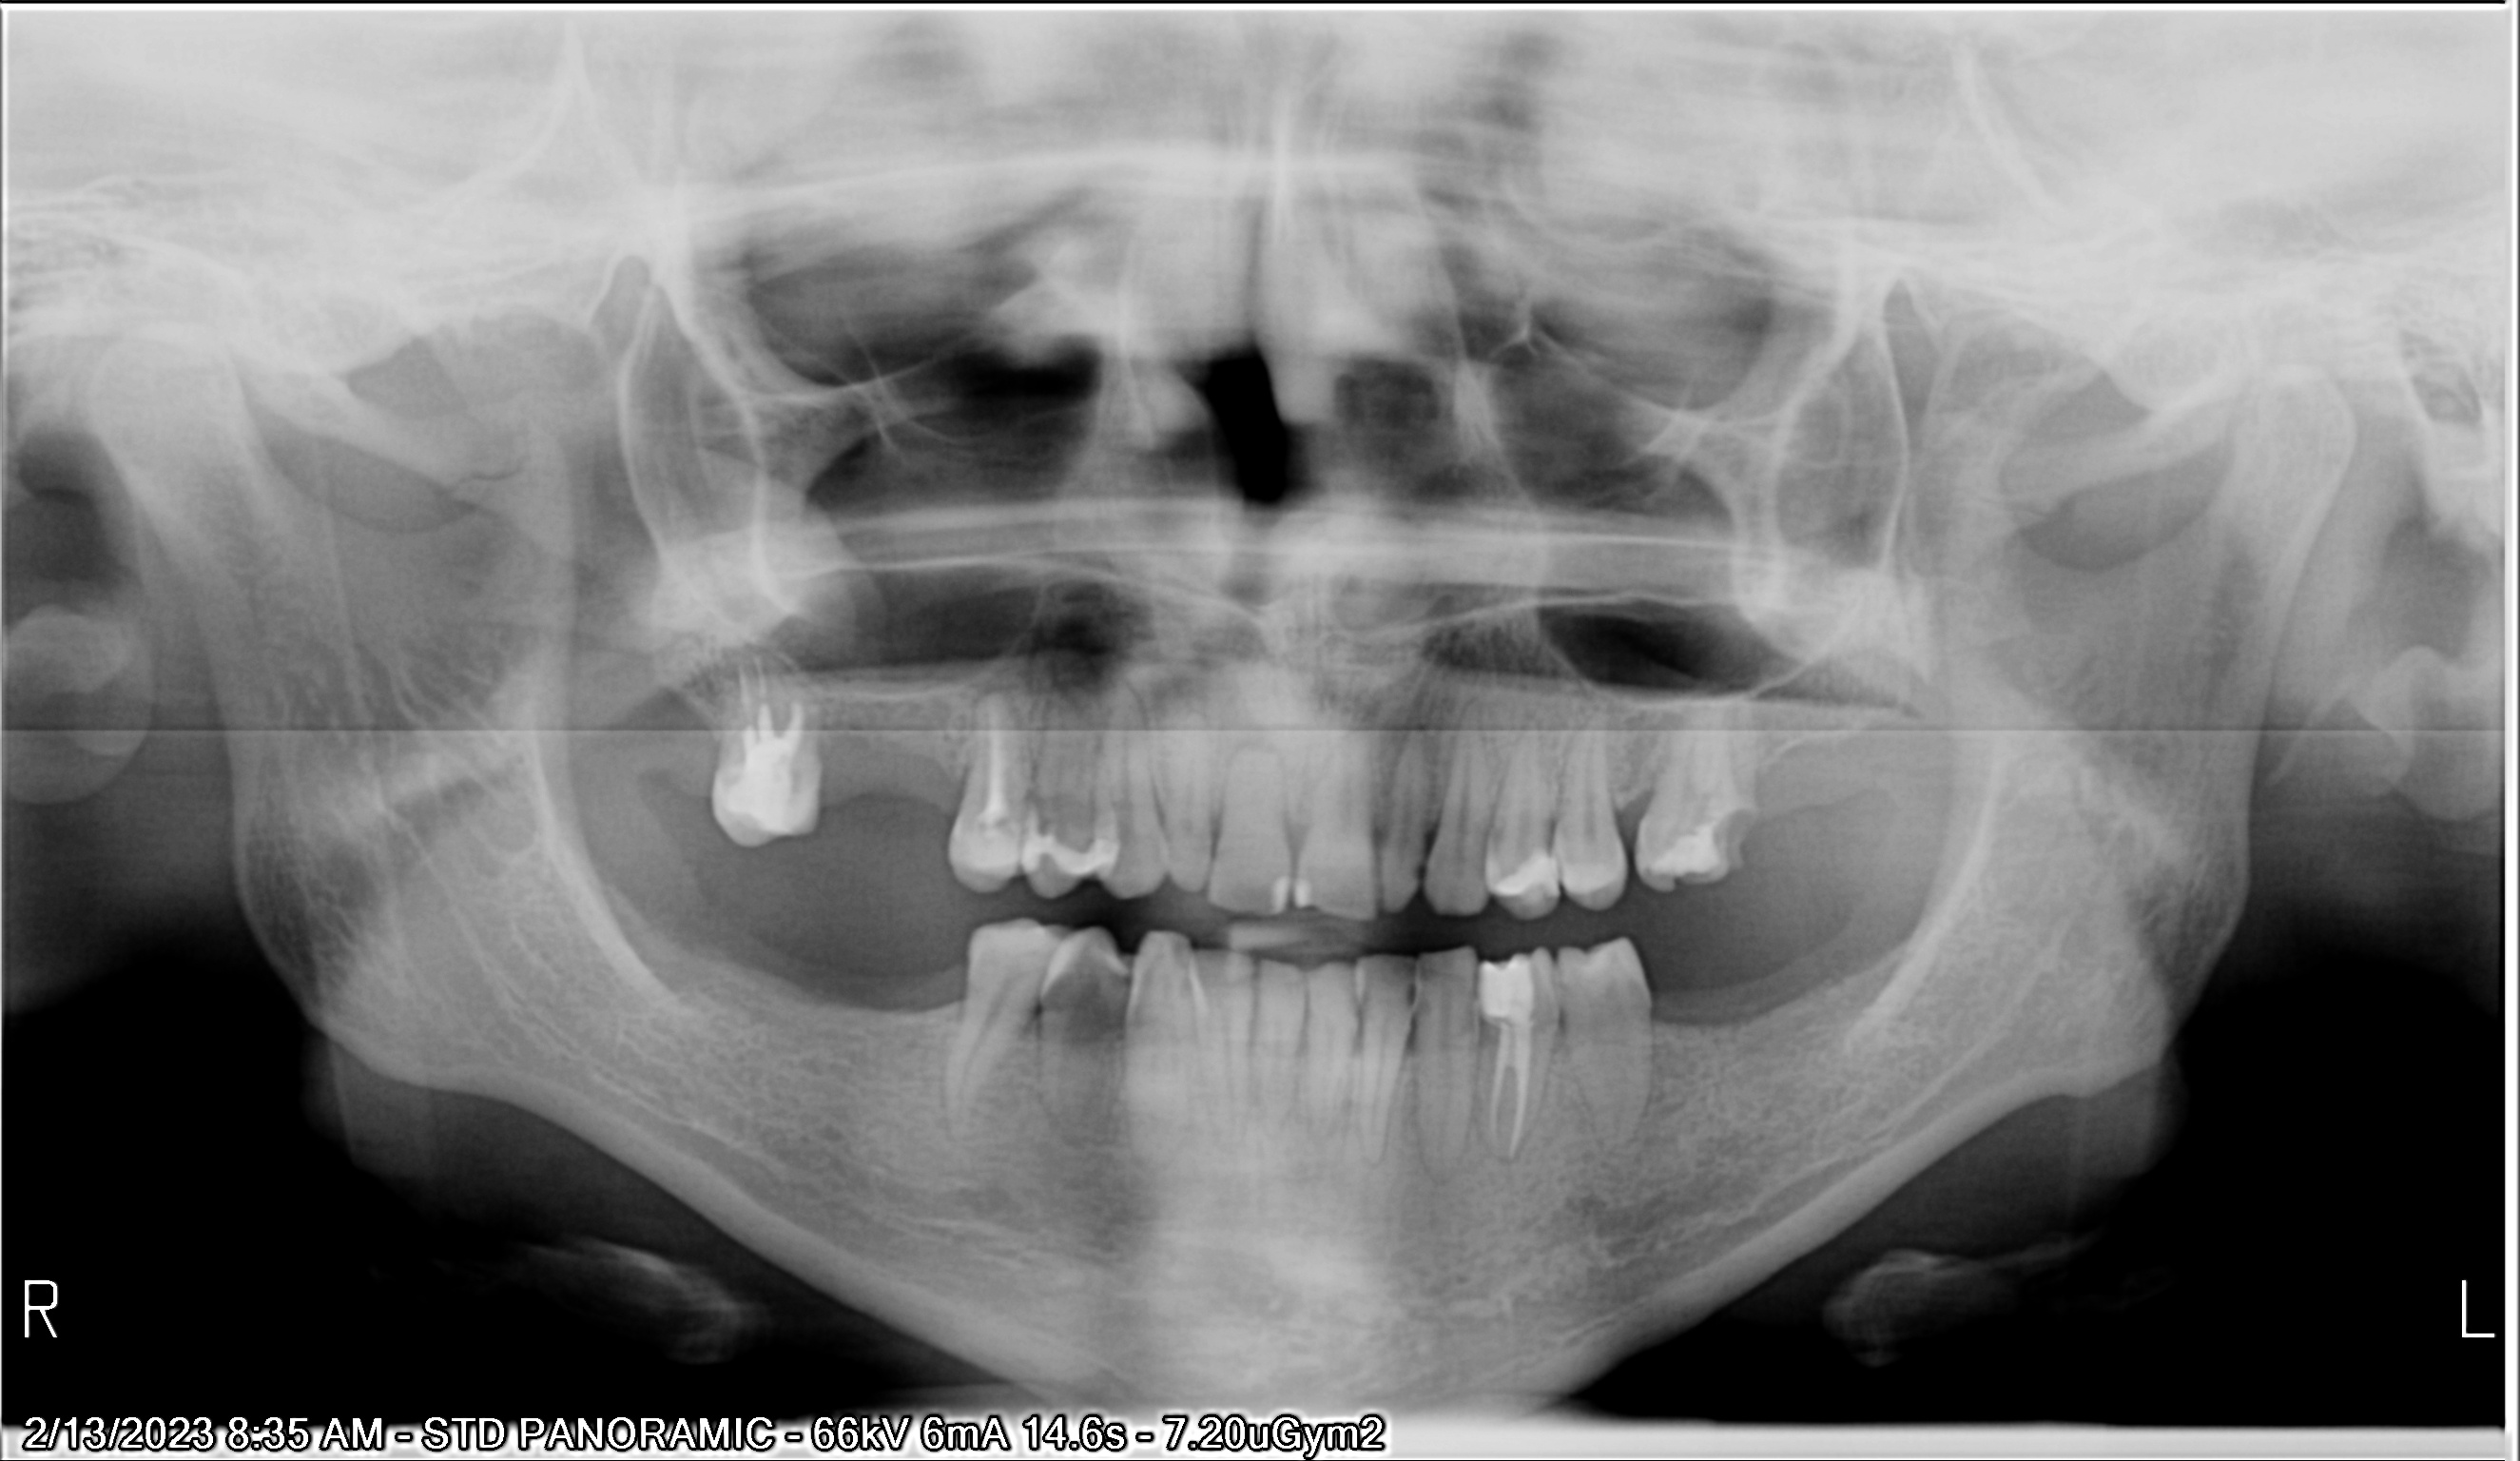BON: (782, 449, 2475, 1461), (766, 351, 2440, 1197), (680, 362, 2143, 1217), (659, 362, 2054, 1211), (605, 362, 1933, 1235), (431, 444, 1411, 1461), (443, 320, 1427, 1141), (368, 301, 1232, 1091)
CAR: (822, 362, 2520, 1238)
END: (707, 431, 2245, 1461), (459, 278, 1481, 1110), (315, 235, 1126, 988)
OBT: (690, 437, 2235, 1458), (772, 358, 2492, 1270), (695, 386, 2266, 1296), (627, 404, 1945, 1324), (607, 404, 1898, 1324), (464, 377, 1594, 1277), (426, 379, 1448, 1266), (295, 332, 1112, 1186)
